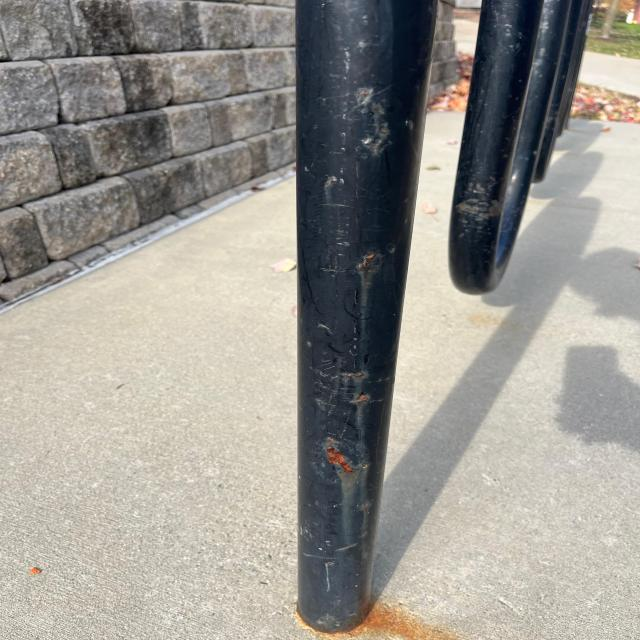Crevice Corrosion: (364, 604, 447, 637)
Filiform Corrosion: (307, 429, 366, 495), (452, 183, 519, 237), (351, 85, 402, 152), (344, 360, 394, 413), (354, 240, 389, 278)
